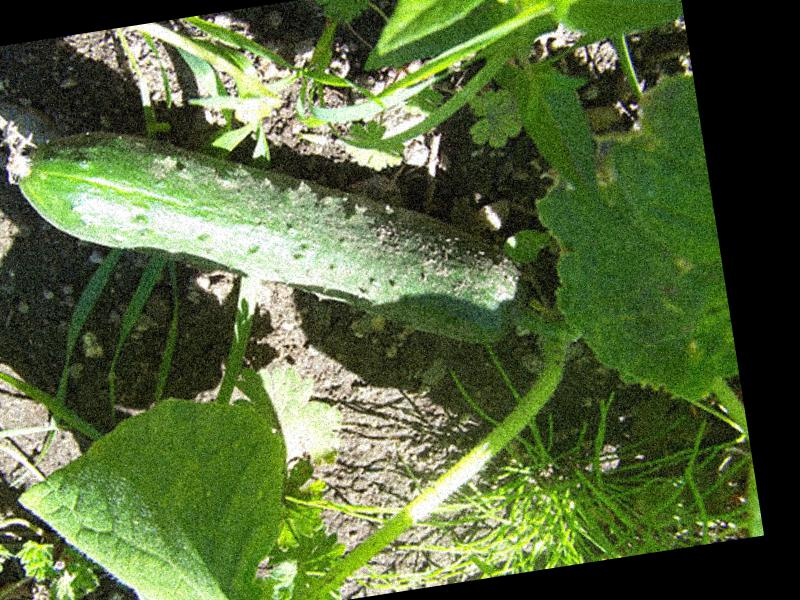Cucumber: (4, 67, 538, 412)
